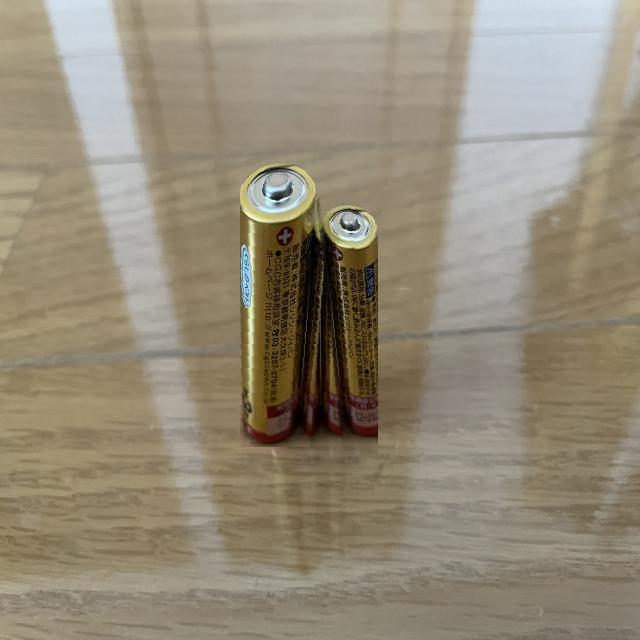battery: (240, 153, 334, 447), (316, 198, 378, 455)
